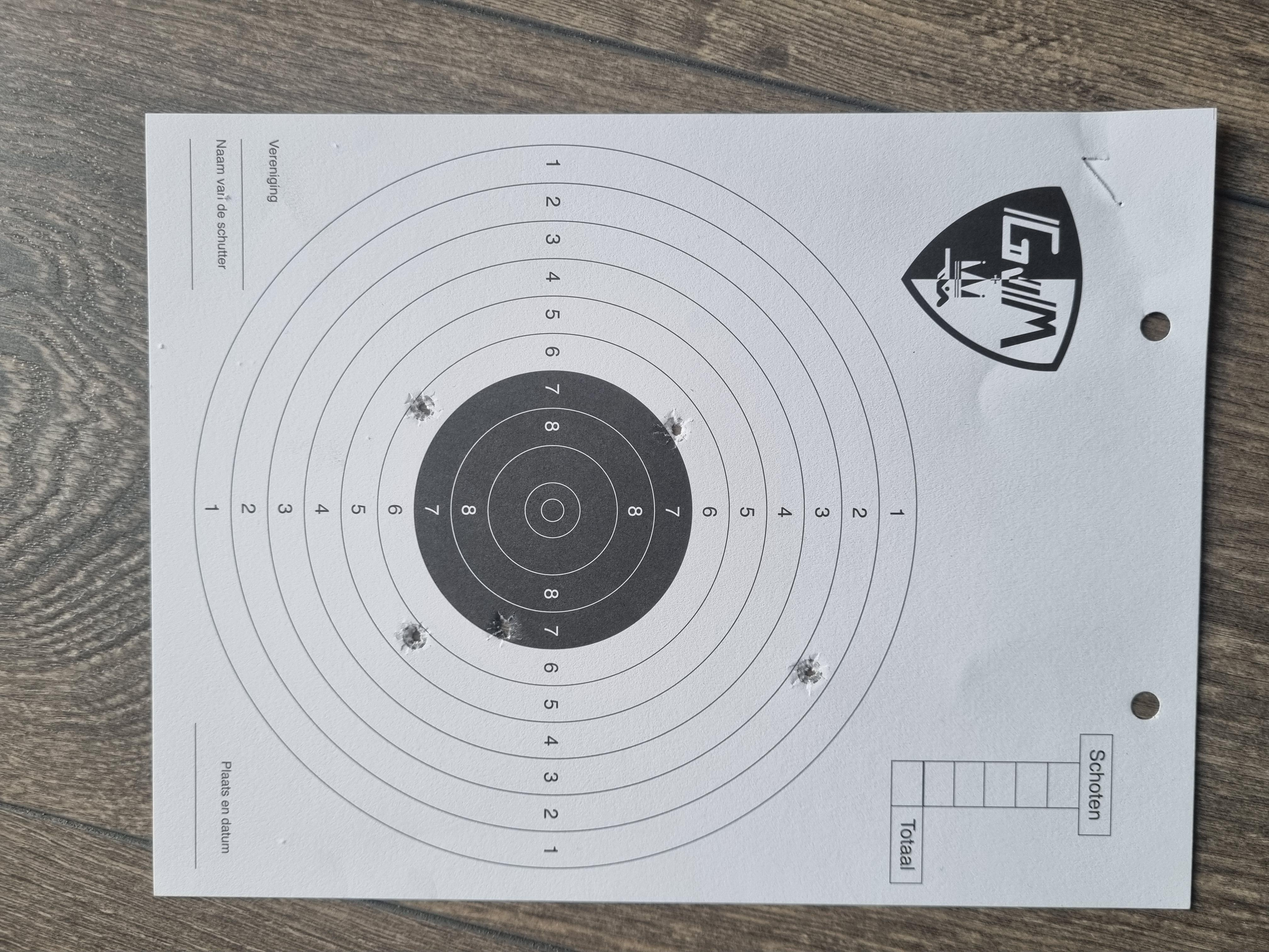hole: (404, 364, 454, 391), (398, 300, 441, 322), (357, 593, 391, 617), (677, 497, 714, 516), (707, 307, 743, 326)
